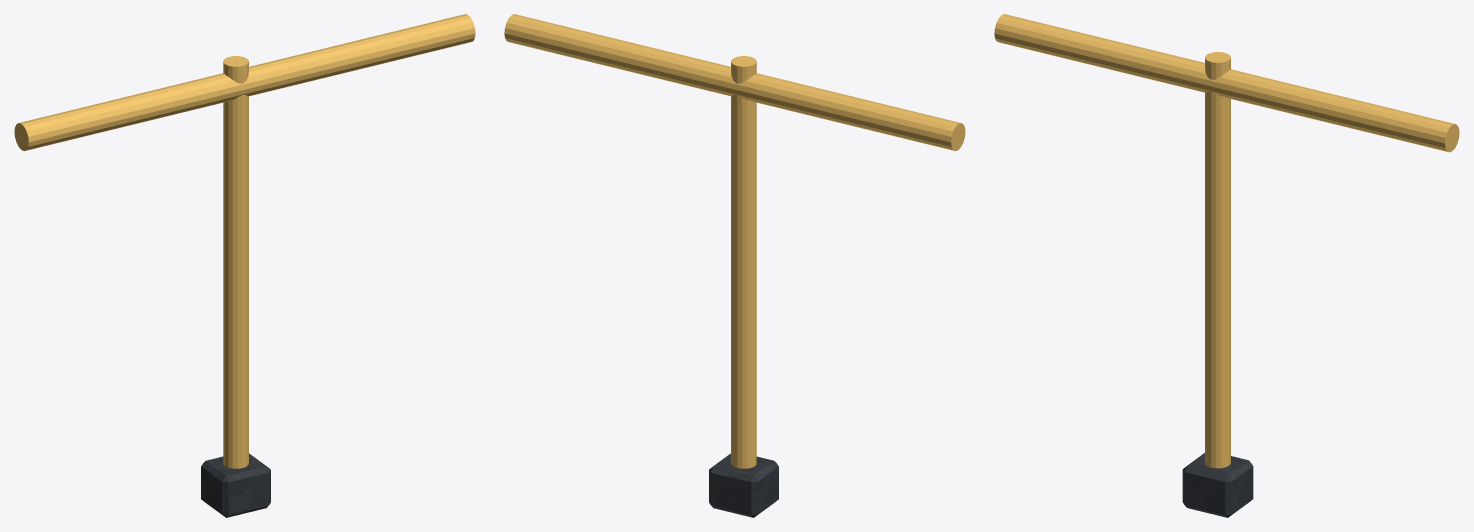
Rendered from train_handrail.gltf.
The picture shows the model from 3 angles, left to right: view 1: azimuth 30°, elevation 25°; view 2: azimuth 150°, elevation 25°; view 3: azimuth 330°, elevation 25°; orthographic projection.
Bounding box in the file's own units: 1 × 0.95 × 0.1.
2 materials, 1 textured.
